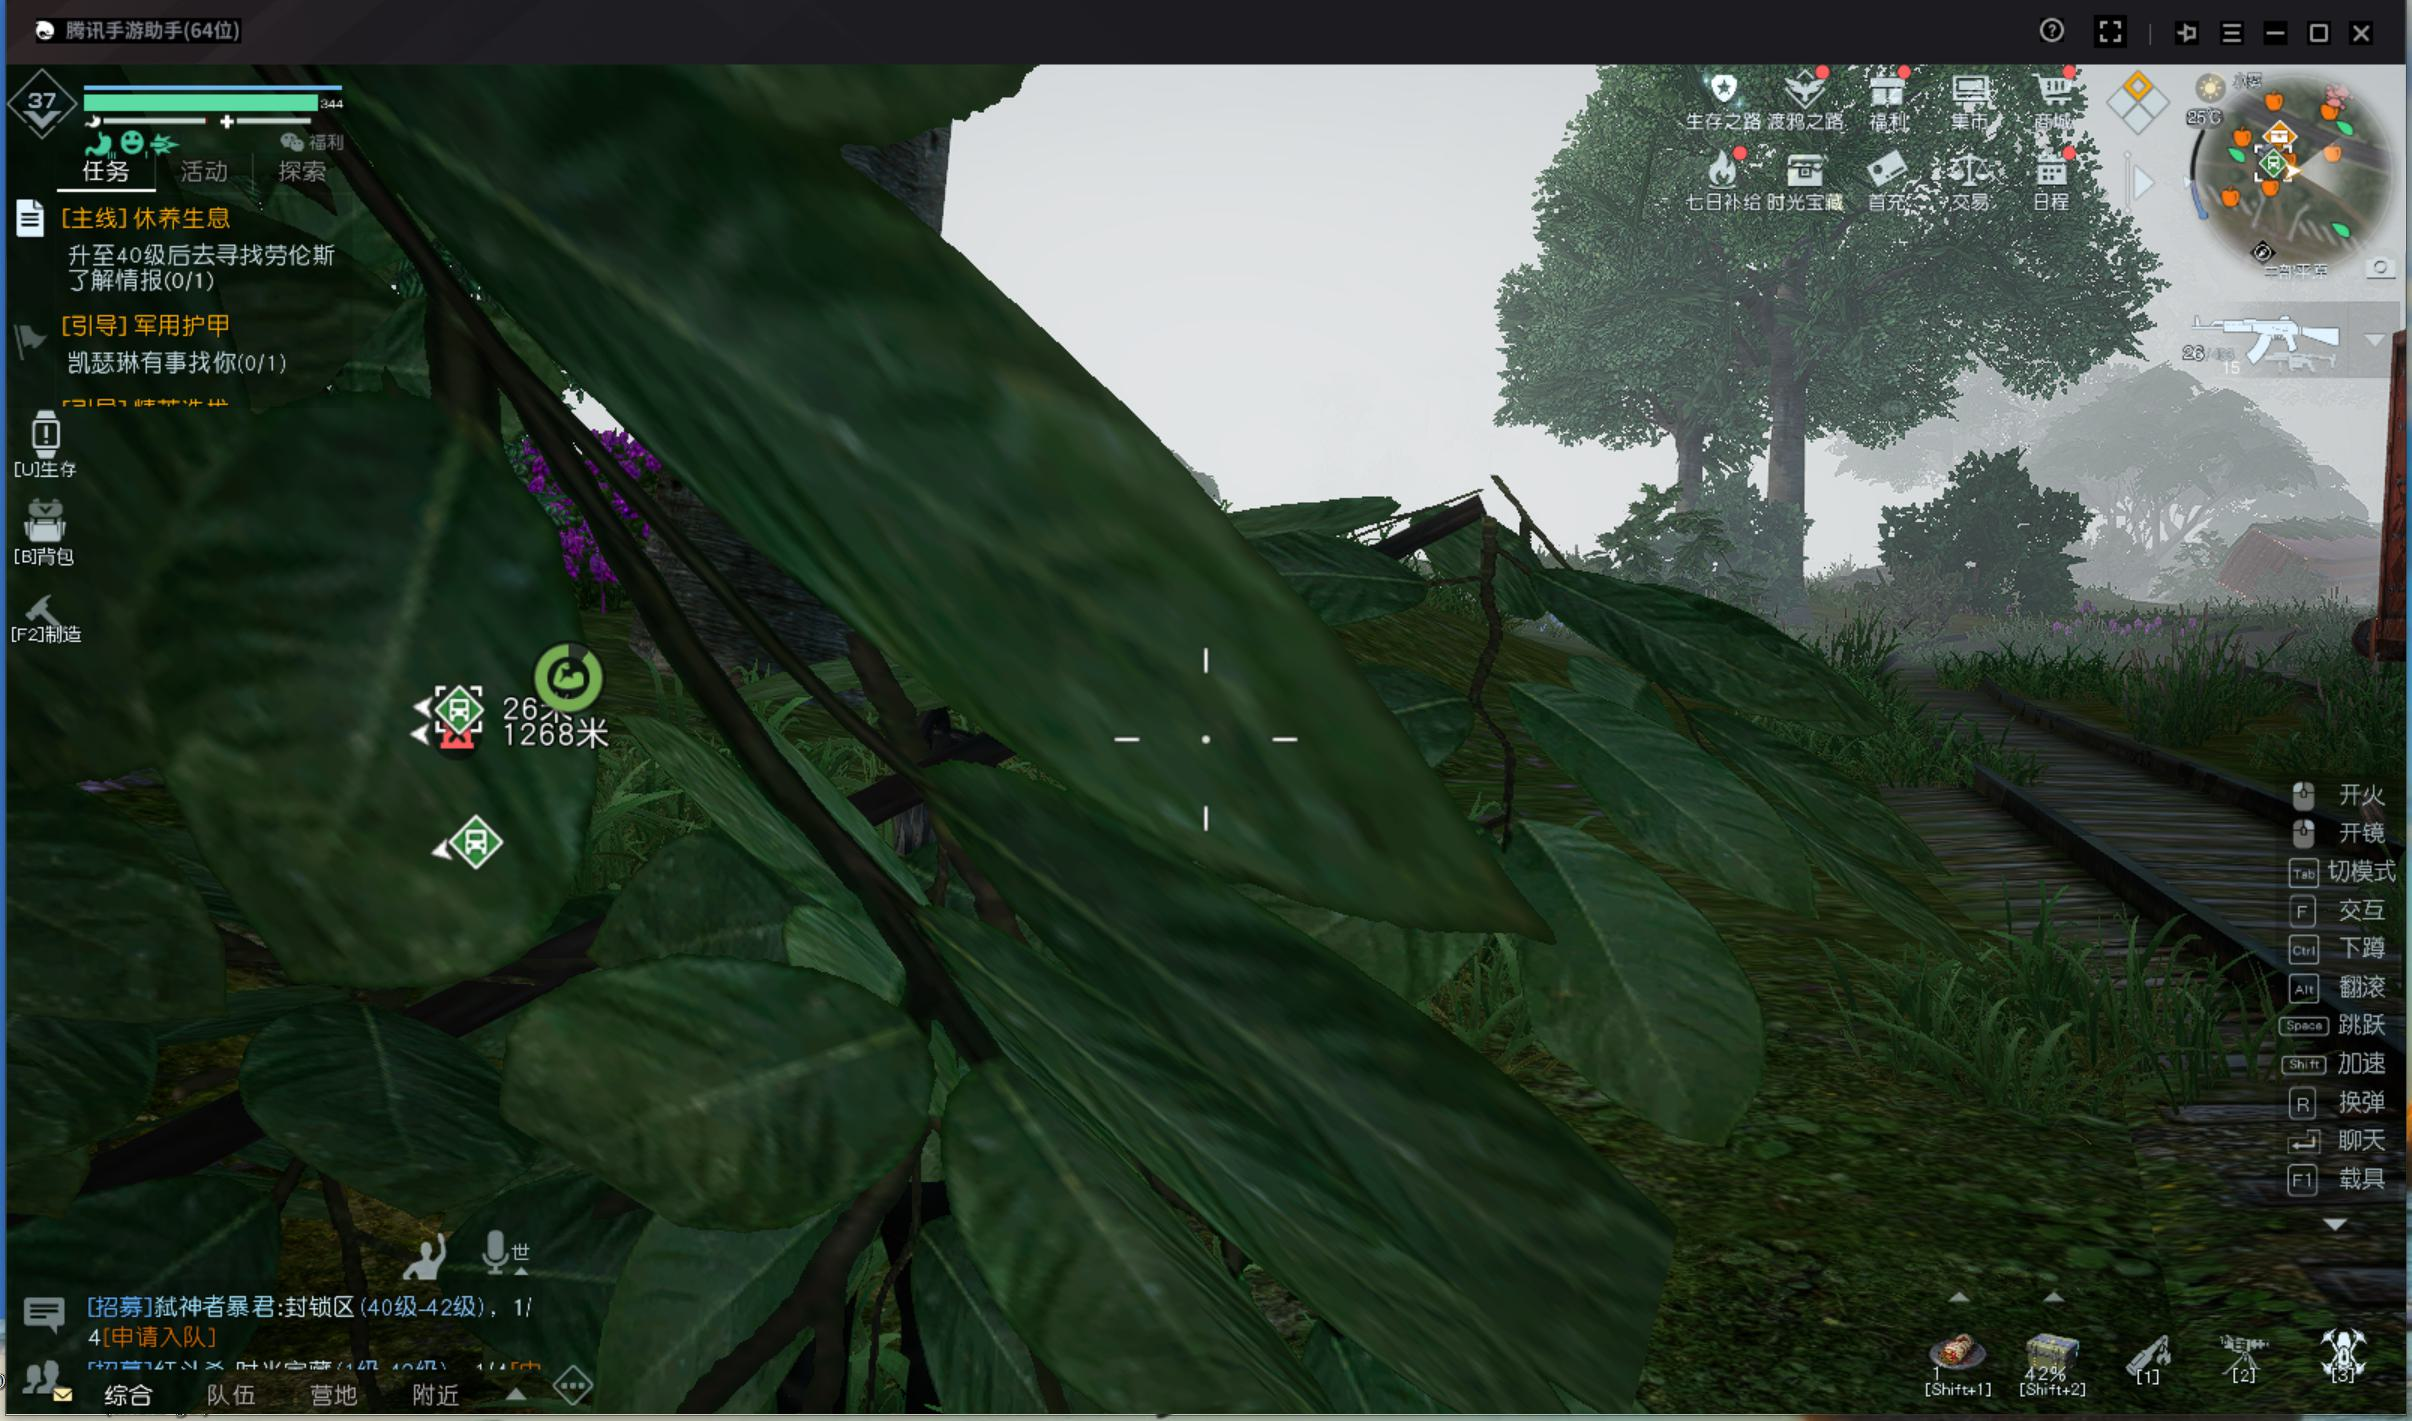tree: (1742, 416, 1823, 638), (1656, 447, 1720, 590)
